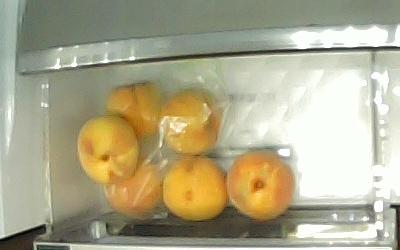peach: (223, 152, 294, 220), (160, 156, 227, 219), (76, 117, 138, 182)
peach_vinyl: (159, 92, 222, 156), (104, 155, 164, 218), (105, 84, 161, 135)
